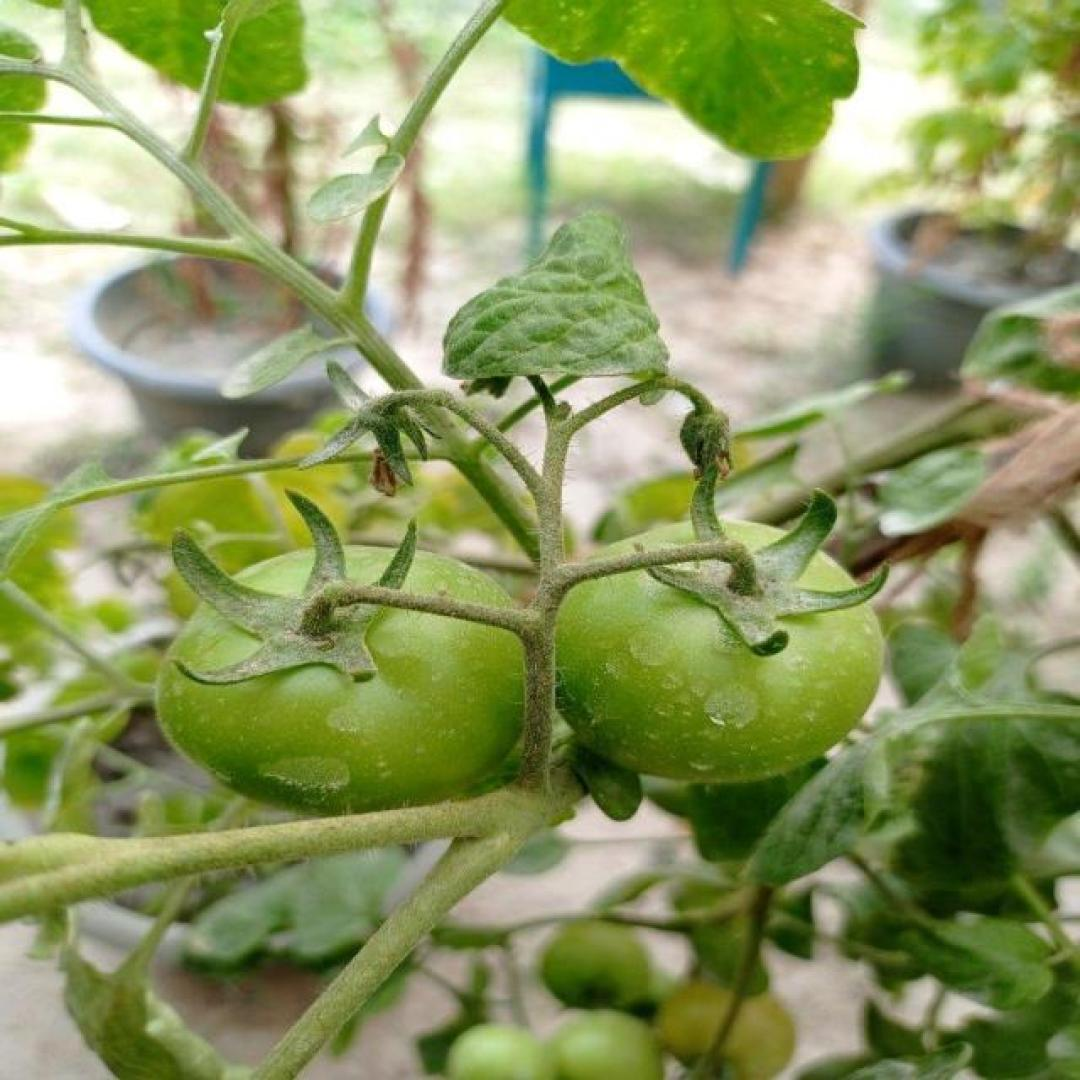mentah: (150, 540, 545, 825), (543, 520, 884, 788)
